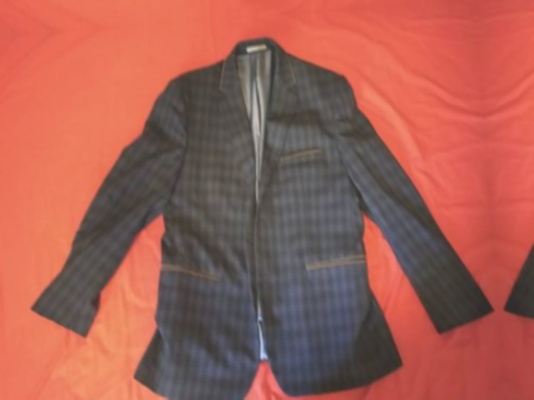Blazer: (27, 14, 498, 400), (483, 0, 534, 381), (0, 0, 468, 18), (515, 395, 534, 400)
